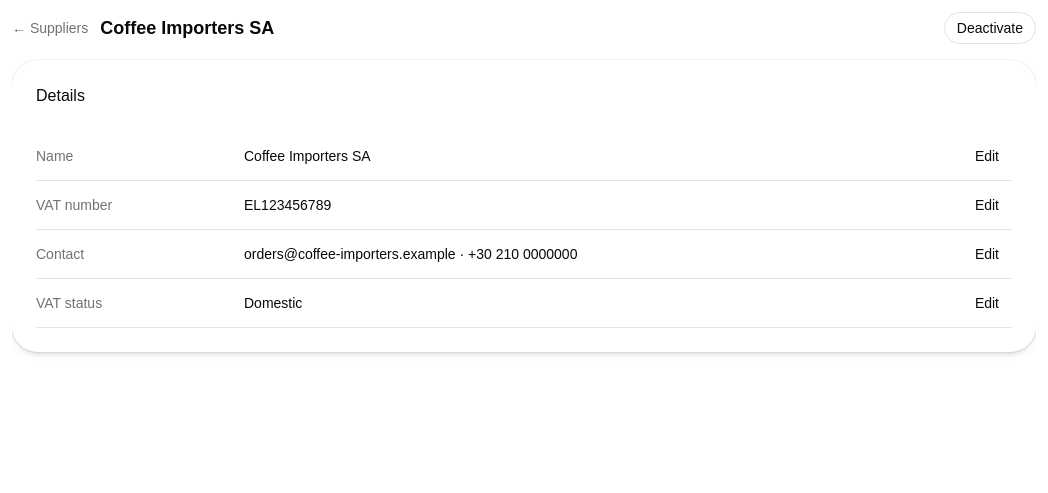
Scenario: the supplier detail › asks for an exemption reason only once the status needs one
expect the heading "Coffee Importers SA" is shown: met, box x1=100 y1=14 x2=274 y2=42
Click the button with aria-label "Edit VAT status" at (987, 303), box x1=962 y1=287 x2=1012 y2=319
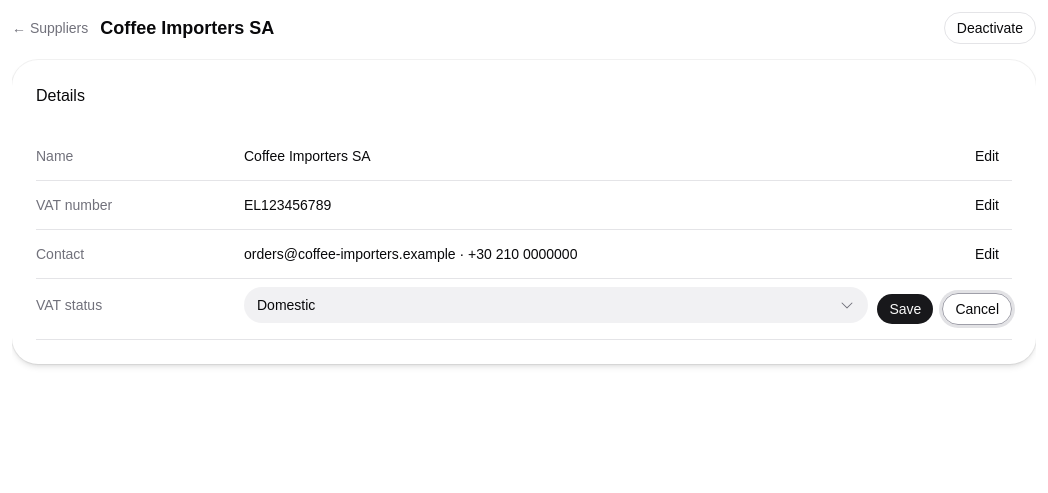
expect the field labelled "Exemption reason" is not shown: met
Click the dropdown named "VAT status" at (286, 305), box x1=244 y1=287 x2=868 y2=323
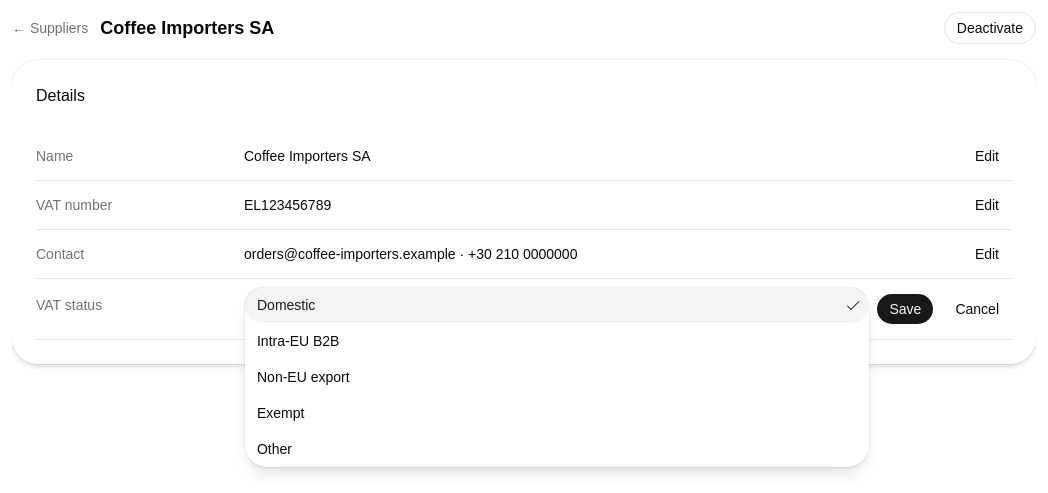
Click the option "Exempt" at (281, 413), box x1=257 y1=405 x2=304 y2=421
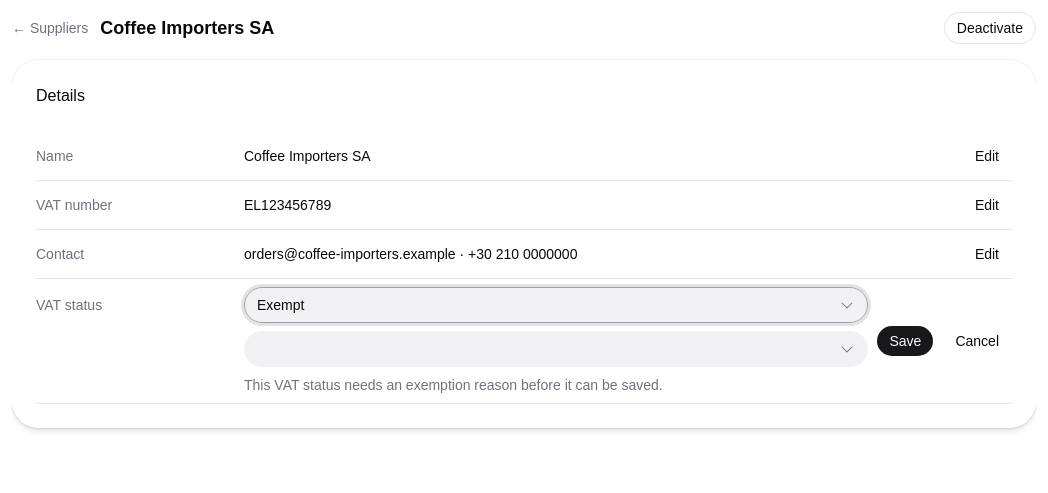
expect the dropdown named "Exemption reason" is shown: met, box x1=244 y1=331 x2=868 y2=367
expect the text "This VAT status needs an exemption reason before it can be saved." is shown: met, box x1=244 y1=377 x2=663 y2=393
